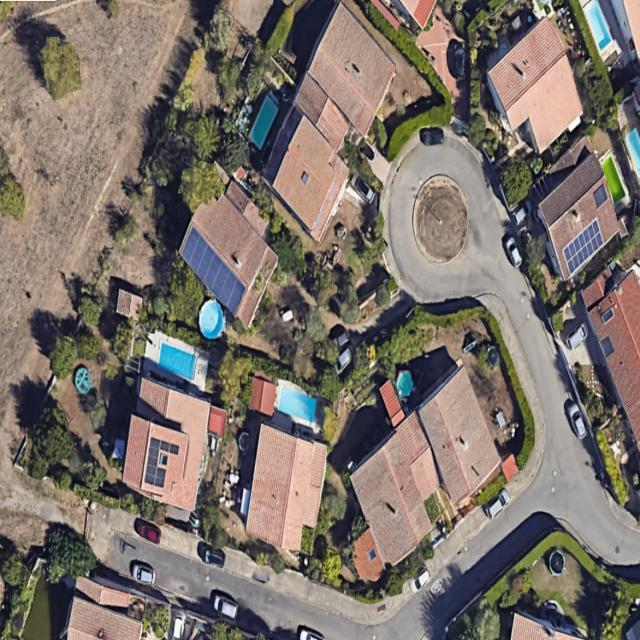maison: (156, 171, 312, 330), (244, 89, 374, 241), (507, 133, 637, 284), (101, 374, 237, 517), (471, 12, 599, 160), (288, 0, 409, 147), (394, 363, 509, 512), (345, 418, 436, 592), (244, 422, 328, 552), (579, 266, 639, 446)
